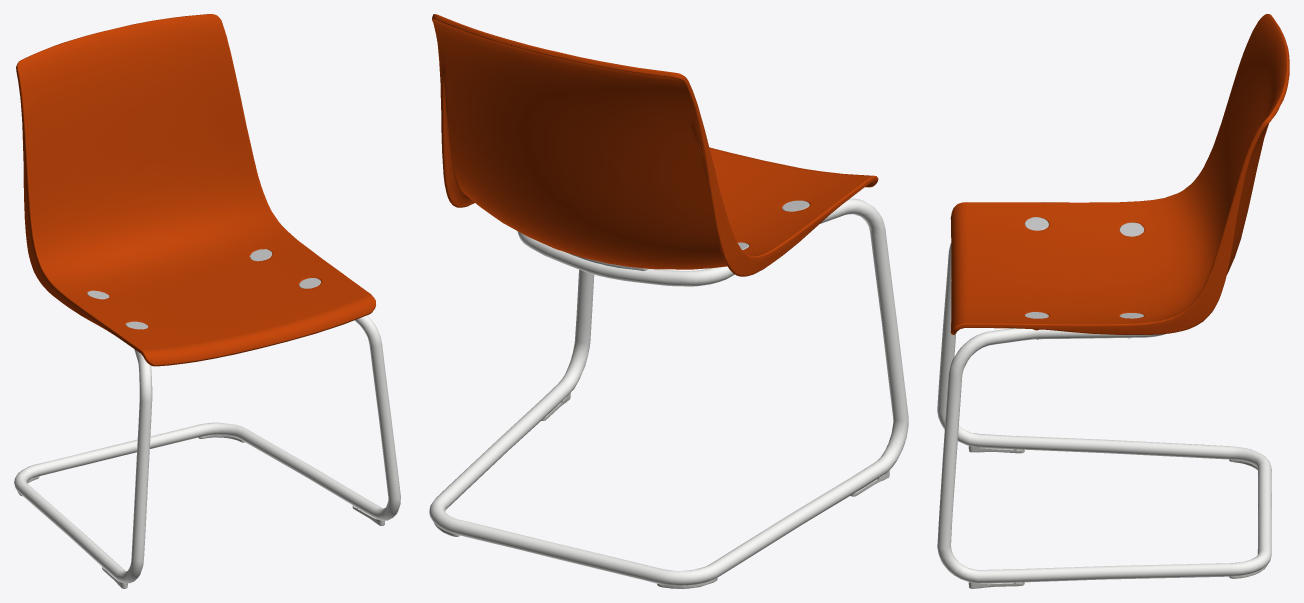
Rendered from TOBIAS_90532589.glb.
3 views of the same model, side by side, from view 1: azimuth 30°, elevation 25°; view 2: azimuth 150°, elevation 25°; view 3: azimuth 270°, elevation 25° (orthographic). The views are drawn at different scales.
Parts seen in each view (by area): view 1: 2, 1; view 2: 2, 1; view 3: 2, 1.
Boxes of the visible parts, x1,y1,x2,y2 form: 2: [16, 14, 375, 366]; 1: [14, 249, 400, 588]; 2: [432, 14, 878, 276]; 1: [429, 198, 908, 588]; 2: [950, 14, 1289, 334]; 1: [937, 217, 1271, 588].
Bounding box in the file's own units: 0.5479 × 0.8191 × 0.5735.
2 materials, 2 textured.
